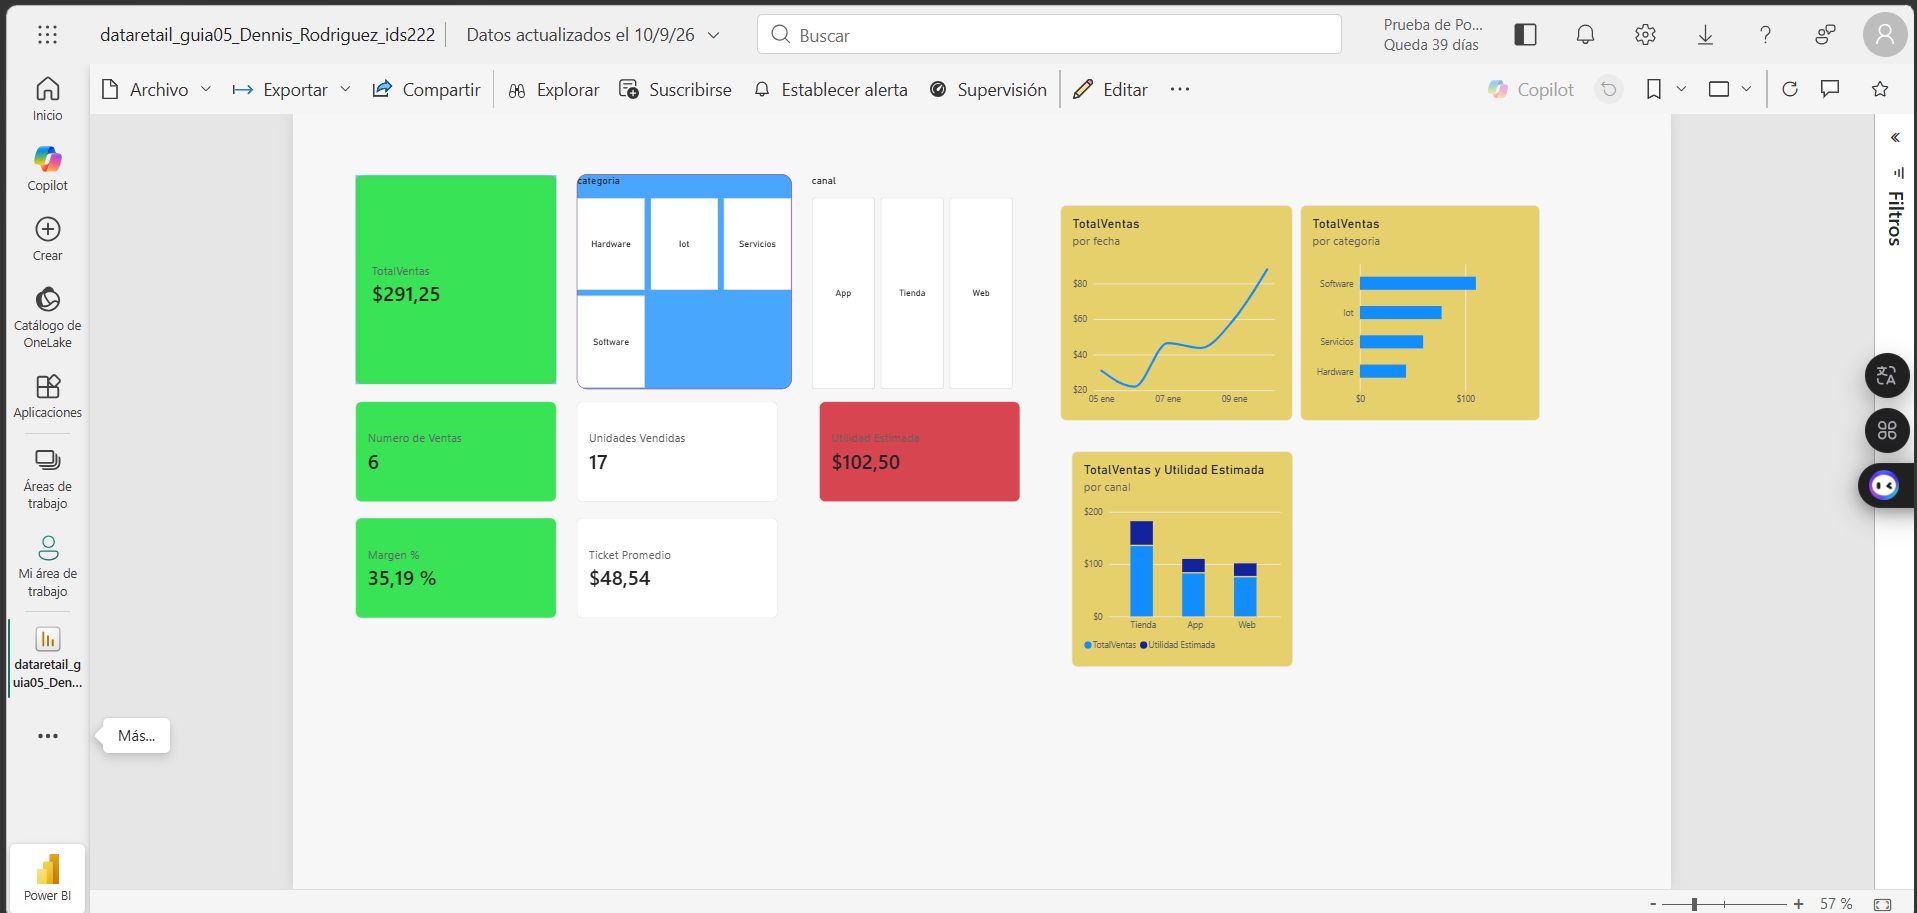

Layout of this report page (visuals, bound fields, positions):
{"tool":"powerbi","page":{"name":"Página 1","canvas":[1920,1080],"ordinal":0},"visuals":[{"type":"cardVisual","fields":{"Data":["factVentas.TotalVentas"]},"box":[86.7,86.7,280,136.7],"z":0},{"type":"advancedSlicerVisual","fields":{"Values":["DimProducto.categoria"]},"box":[722.9,451.4,300,140],"z":1000},{"type":"advancedSlicerVisual","fields":{"Values":["DimCanal.canal"]},"box":[87.1,451.4,280,140],"z":2000},{"type":"cardVisual","fields":{"Data":["factVentas.Numero de Ventas"]},"box":[86.7,286.7,280,140],"z":3000},{"type":"cardVisual","fields":{"Data":["factVentas.Unidades Vendidas"]},"box":[723.3,86.7,280,140],"z":4000},{"type":"cardVisual","fields":{"Data":["factVentas.Utilidad Estimada"]},"box":[396.7,83.3,280,140],"z":5000},{"type":"cardVisual","fields":{"Data":["factVentas.Margen %"]},"box":[396.7,286.7,280,140],"z":6000},{"type":"cardVisual","fields":{"Data":["factVentas.Ticket Promedio"]},"box":[723.3,276.7,280,140],"z":7000},{"type":"clusteredBarChart","fields":{"Category":["factVentas.categoria"],"Y":["factVentas.TotalVentas"]},"box":[1420,86,333.3,300],"z":8000},{"type":"columnChart","fields":{"Category":["factVentas.canal"],"Y":["factVentas.TotalVentas","factVentas.Utilidad Estimada"]},"box":[1084,416,308.3,300],"z":9000},{"type":"lineChart","fields":{"Category":["DimFecha.Date.Variación.Jerarquía de fechas.Año","DimFecha.Date.Variación.Jerarquía de fechas.Mes","DimFecha.Date.Variación.Jerarquía de fechas.Día"],"Y":["factVentas.TotalVentas"]},"box":[1084,86,310,300],"z":10000},{"type":"barChart","fields":{"Category":["DimProducto.categoria"],"Y":["factVentas.TotalVentas"]},"box":[1434,416,304,300],"z":11000},{"type":"pivotTable","fields":{"Columns":["factVentas.canal"],"Rows":["DimProducto.categoria"],"Values":["factVentas.Margen %","factVentas.Utilidad Estimada","factVentas.TotalVentas"]},"box":[32,750,1230,260],"z":11001}]}

Visuals, with their boxes on the page's 1920x1080 design canvas (x1, y1, x2, y2). These are canvas units, not pixel positions in the 1917x913 screenshot, which may show the page scaled, cropped or inside an application window:
cardVisual - factVentas.TotalVentas: l=87, t=87, r=367, b=223
advancedSlicerVisual - DimProducto.categoria: l=723, t=451, r=1023, b=591
advancedSlicerVisual - DimCanal.canal: l=87, t=451, r=367, b=591
cardVisual - factVentas.Numero de Ventas: l=87, t=287, r=367, b=427
cardVisual - factVentas.Unidades Vendidas: l=723, t=87, r=1003, b=227
cardVisual - factVentas.Utilidad Estimada: l=397, t=83, r=677, b=223
cardVisual - factVentas.Margen %: l=397, t=287, r=677, b=427
cardVisual - factVentas.Ticket Promedio: l=723, t=277, r=1003, b=417
clusteredBarChart - factVentas.categoria x factVentas.TotalVentas: l=1420, t=86, r=1753, b=386
columnChart - factVentas.canal x factVentas.TotalVentas: l=1084, t=416, r=1392, b=716
lineChart - DimFecha.Date.Variación.Jerarquía de fechas.Año x DimFecha.Date.Variación.Jerarquía de fechas.Mes: l=1084, t=86, r=1394, b=386
barChart - DimProducto.categoria x factVentas.TotalVentas: l=1434, t=416, r=1738, b=716
pivotTable - factVentas.canal x DimProducto.categoria: l=32, t=750, r=1262, b=1010
